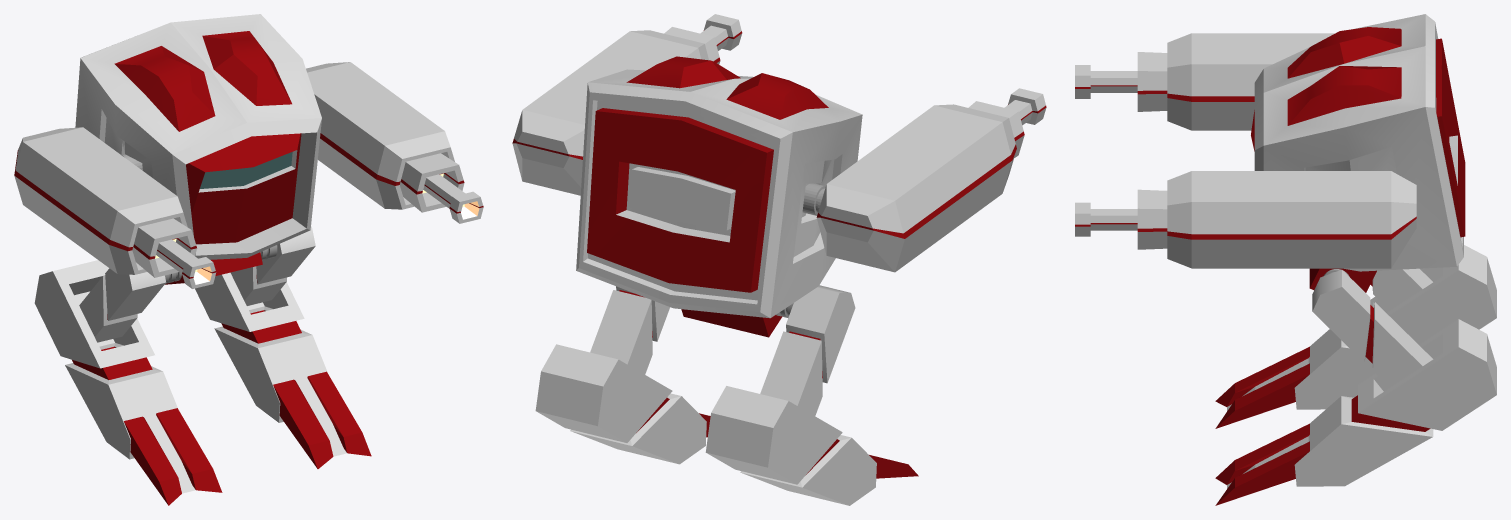
File: policebot.glb
3 renders of one model, left to right at view 1: azimuth 30°, elevation 25°; view 2: azimuth 150°, elevation 25°; view 3: azimuth 270°, elevation 25°, orthographic. The views are drawn at different scales.
Parts seen in each view (by area): view 1: Cube, Cube.001, Cube.004, Cube.005, Cube.003, Cube.002; view 2: Cube, Cube.001, Cube.004, Cube.003, Cube.002, Cube.005; view 3: Cube.001, Cube, Cube.004, Cube.003, Cube.005, Cube.002.
Boxes of the visible parts, left/top/right/bottom form: Cube: left=75, top=14, right=321, bottom=259; Cube.001: left=14, top=62, right=483, bottom=288; Cube.004: left=34, top=260, right=327, bottom=459; Cube.005: left=124, top=371, right=371, bottom=505; Cube.003: left=79, top=226, right=315, bottom=342; Cube.002: left=165, top=252, right=262, bottom=284; Cube: left=576, top=56, right=862, bottom=318; Cube.001: left=512, top=14, right=1046, bottom=272; Cube.004: left=535, top=344, right=876, bottom=505; Cube.003: left=590, top=285, right=855, bottom=415; Cube.002: left=681, top=309, right=782, bottom=337; Cube.005: left=699, top=413, right=918, bottom=478; Cube.001: left=1075, top=33, right=1416, bottom=268; Cube: left=1251, top=14, right=1465, bottom=271; Cube.004: left=1294, top=245, right=1496, bottom=486; Cube.003: left=1312, top=268, right=1433, bottom=387; Cube.005: left=1215, top=346, right=1309, bottom=505; Cube.002: left=1309, top=268, right=1376, bottom=292.
Size of the model in its own units: 3.99 by 4.27 by 4.
